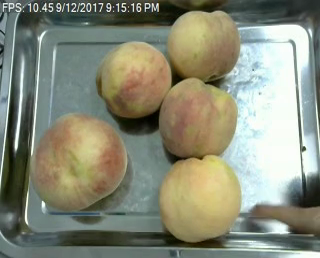Peach: (30, 112, 126, 211), (159, 155, 240, 243), (158, 76, 239, 159), (97, 40, 172, 119), (167, 9, 240, 81)
